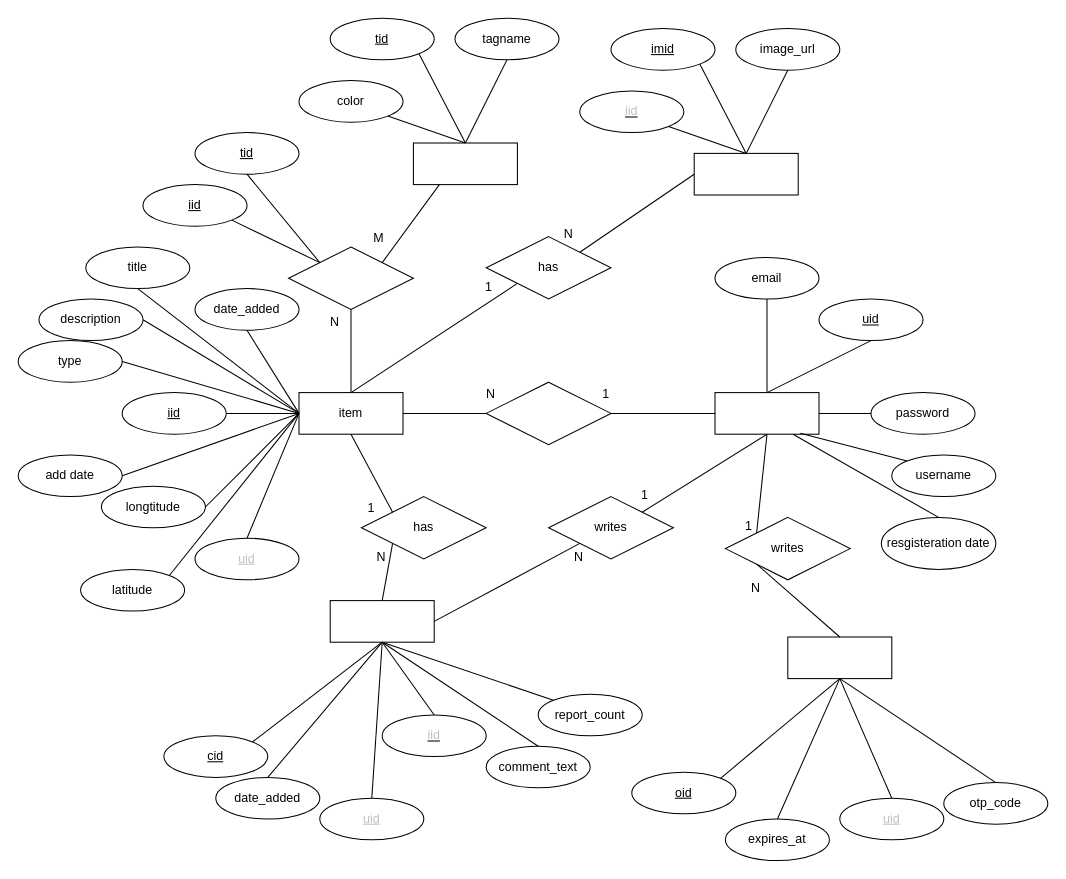
The diagram is 1066 pixels wide and 879 high, and some of its shapes have lost their labels. Here are the shapes that lost their labels. From the top down, the centre of each, then its label:
At [464,163]: "tag".
At [745,173]: "image".
At [350,277]: "item_tags".
At [548,413]: "adds".
At [766,413]: "user".
At [381,621]: "comment".
At [839,657]: "otp".
